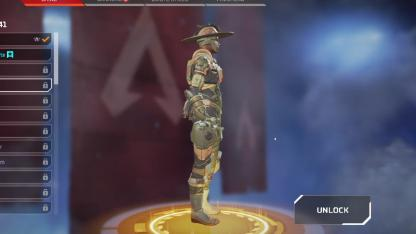Target: (173, 19, 245, 192)
